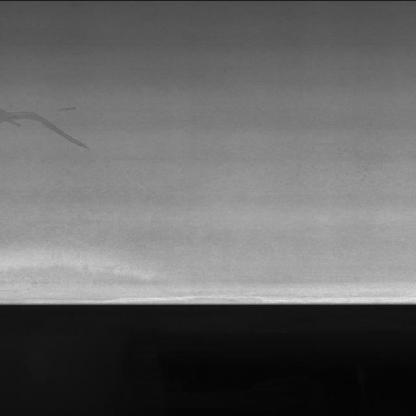water_spot: (0, 96, 96, 158)
